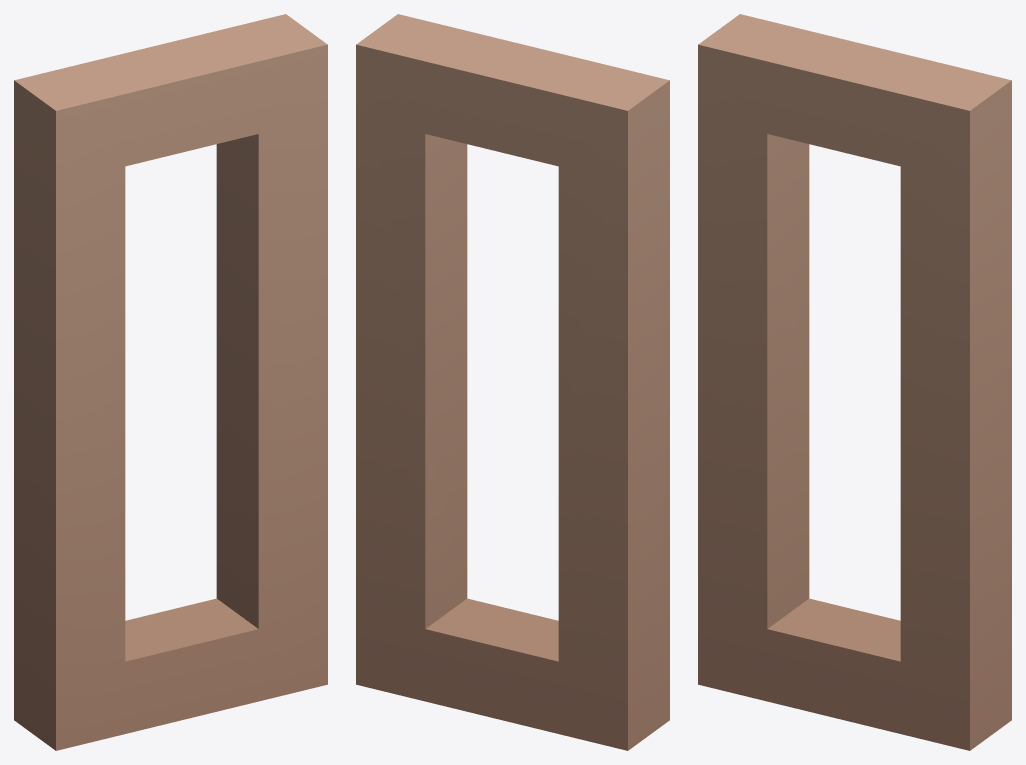
Rendered from window-brown-narrow.glb.
3 views of the same model, side by side, from view 1: azimuth 30°, elevation 25°; view 2: azimuth 150°, elevation 25°; view 3: azimuth 330°, elevation 25° (orthographic).
Parts seen in each view (by area): view 1: window-brown-narrow; view 2: window-brown-narrow; view 3: window-brown-narrow.
Part boxes in pixels (bbox=[...]): window-brown-narrow: bbox=[14, 14, 327, 750]; window-brown-narrow: bbox=[356, 14, 669, 750]; window-brown-narrow: bbox=[698, 14, 1011, 750].
Size of the model in its own units: 0.1875 by 0.4219 by 0.05.
